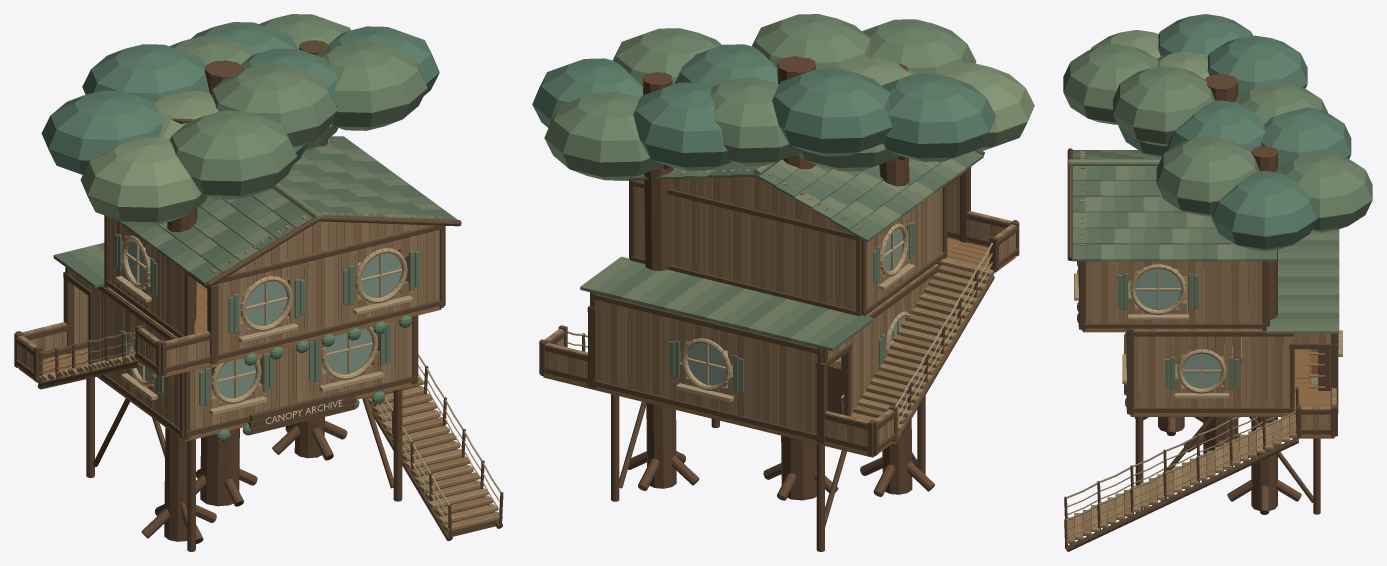
File: canopy-archive.glb
3 renders of one model, left to right at view 1: azimuth 30°, elevation 25°; view 2: azimuth 150°, elevation 25°; view 3: azimuth 270°, elevation 25°, orthographic. The views are drawn at different scales.
Visible parts, largest first — view 1: canopy-archive_Architecture_Mesh, canopy-archive_UpperShell_Mesh, canopy-archive_LowerShell_Mesh, canopy-archive_Roof_Mesh, canopy-archive_Upper_Mesh, canopy-archive_Lower_Mesh; view 2: canopy-archive_Architecture_Mesh, canopy-archive_LowerShell_Mesh, canopy-archive_UpperShell_Mesh, canopy-archive_Roof_Mesh, canopy-archive_Lower_Mesh, canopy-archive_Upper_Mesh, retreat_LowerBooks_Mesh; view 3: canopy-archive_Architecture_Mesh, canopy-archive_LowerShell_Mesh, canopy-archive_Roof_Mesh, canopy-archive_UpperShell_Mesh, canopy-archive_Lower_Mesh, retreat_LowerBooks_Mesh, canopy-archive_Upper_Mesh.
Boxes of the visible parts, x1,y1,x2,y2 form: canopy-archive_Architecture_Mesh: (18,14,503,551); canopy-archive_UpperShell_Mesh: (104,139,445,375); canopy-archive_LowerShell_Mesh: (14,243,418,441); canopy-archive_Roof_Mesh: (89,136,461,286); canopy-archive_Upper_Mesh: (137,280,441,377); canopy-archive_Lower_Mesh: (75,345,414,441); canopy-archive_Architecture_Mesh: (532,14,1034,551); canopy-archive_LowerShell_Mesh: (539,256,941,456); canopy-archive_UpperShell_Mesh: (629,167,1019,316); canopy-archive_Roof_Mesh: (614,151,984,242); canopy-archive_Lower_Mesh: (543,341,841,445); canopy-archive_Upper_Mesh: (946,238,1015,275); retreat_LowerBooks_Mesh: (681,352,841,413); canopy-archive_Architecture_Mesh: (1063,14,1372,551); canopy-archive_LowerShell_Mesh: (1122,229,1342,437); canopy-archive_Roof_Mesh: (1067,148,1276,261); canopy-archive_UpperShell_Mesh: (1074,151,1269,330); canopy-archive_Lower_Mesh: (1130,334,1334,438); retreat_LowerBooks_Mesh: (1283,334,1330,390); canopy-archive_Upper_Mesh: (1082,261,1262,332).
Bounding box in the file's own units: 14.57 × 15.26 × 10.62.
